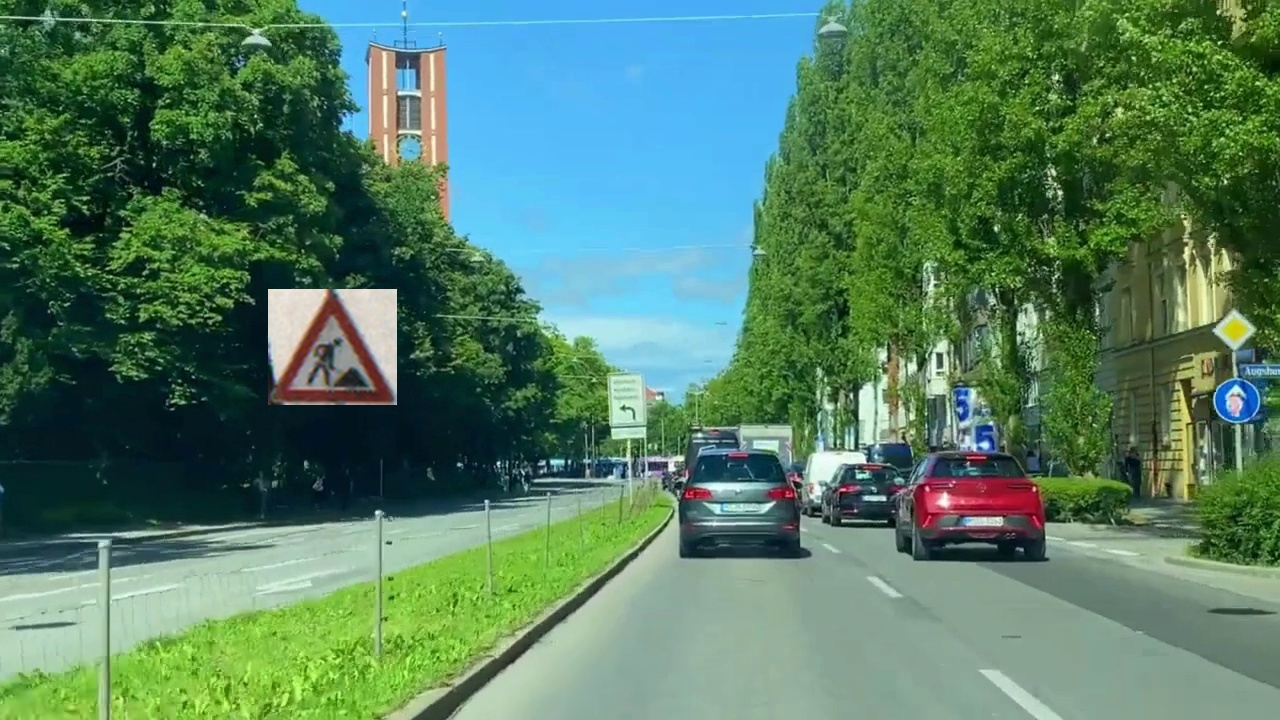Road work: (268, 289, 397, 405)
